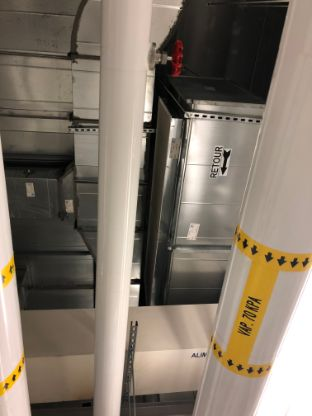Duct: (140, 70, 272, 310), (1, 145, 97, 310)
